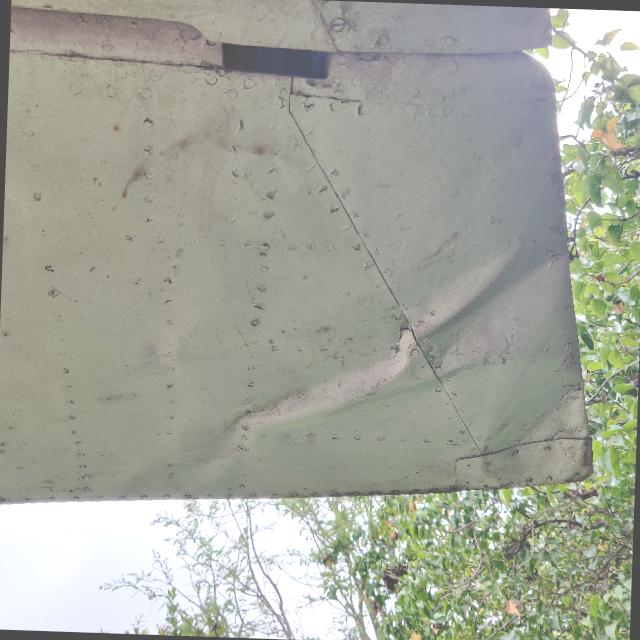dent: (269, 205, 571, 446), (108, 390, 272, 520)
